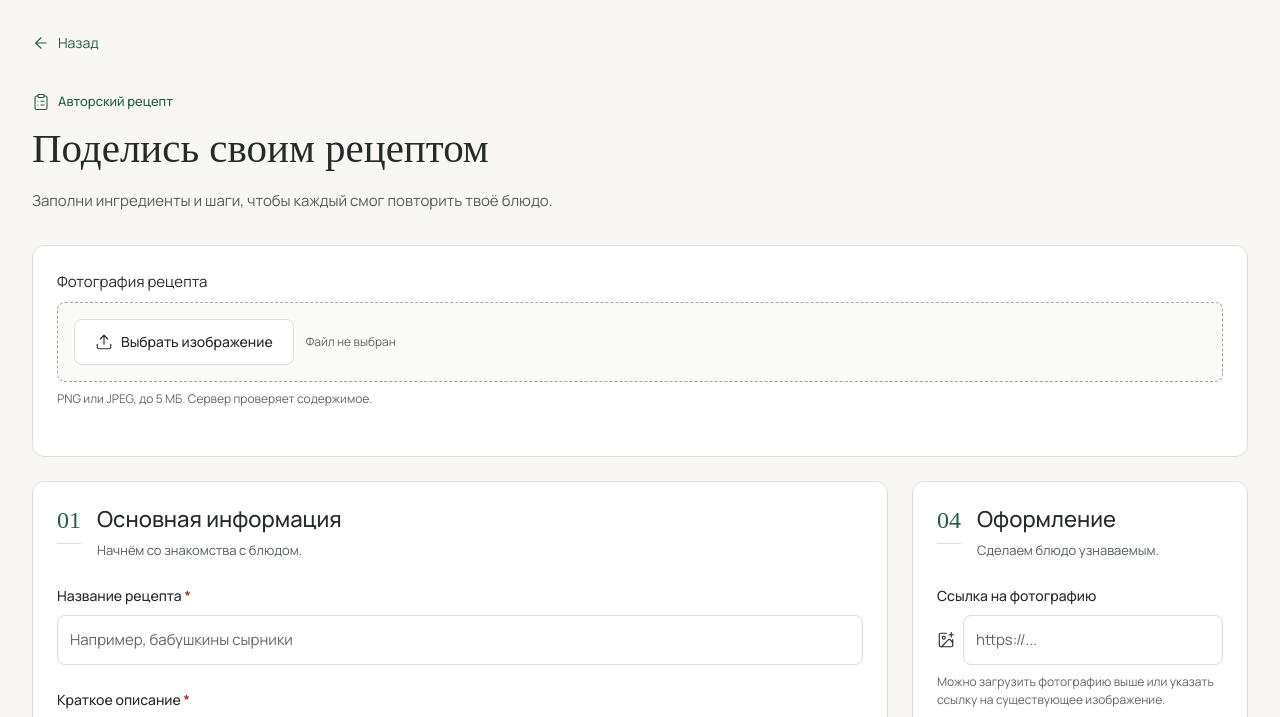
Test: показывает ошибку localStorage и сохраняет форму доступной
In the field labelled "Название рецепта *": (460, 640) [57, 615, 863, 665], type "Ввод доступен"
(page scrolled)
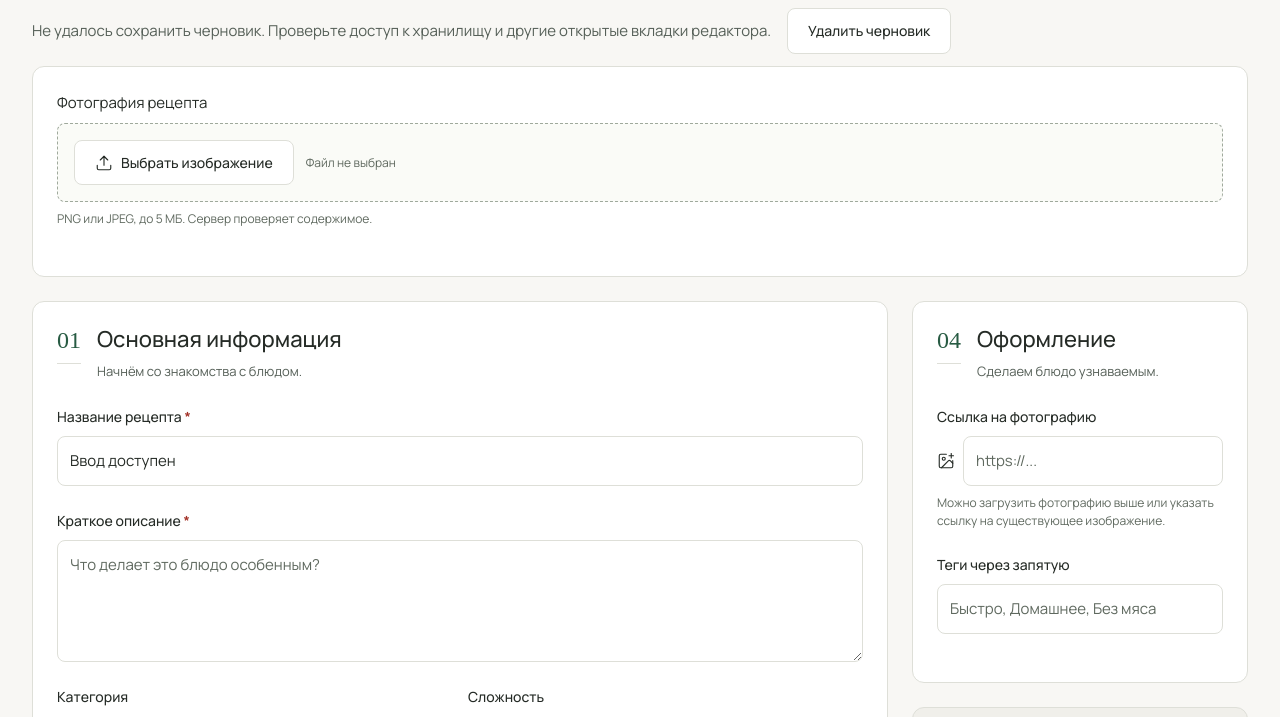
Check: the text "Не удалось сохранить черновик" is shown, box [32, 20, 771, 41]
